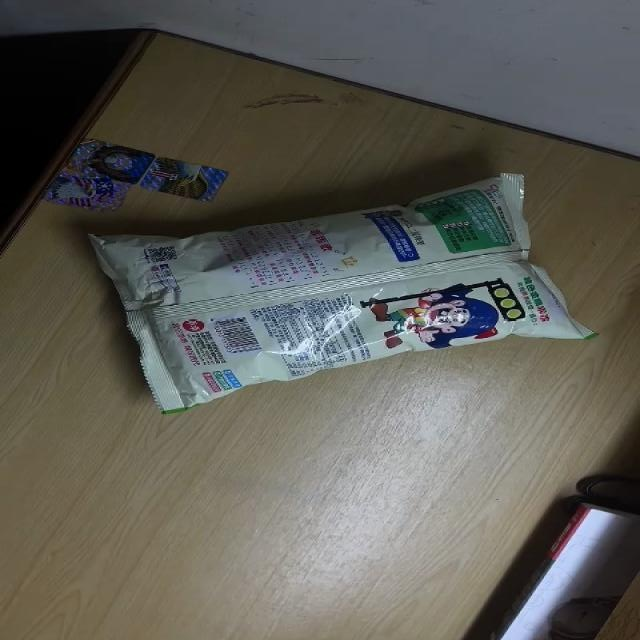Good-Luck: (82, 171, 598, 415)
